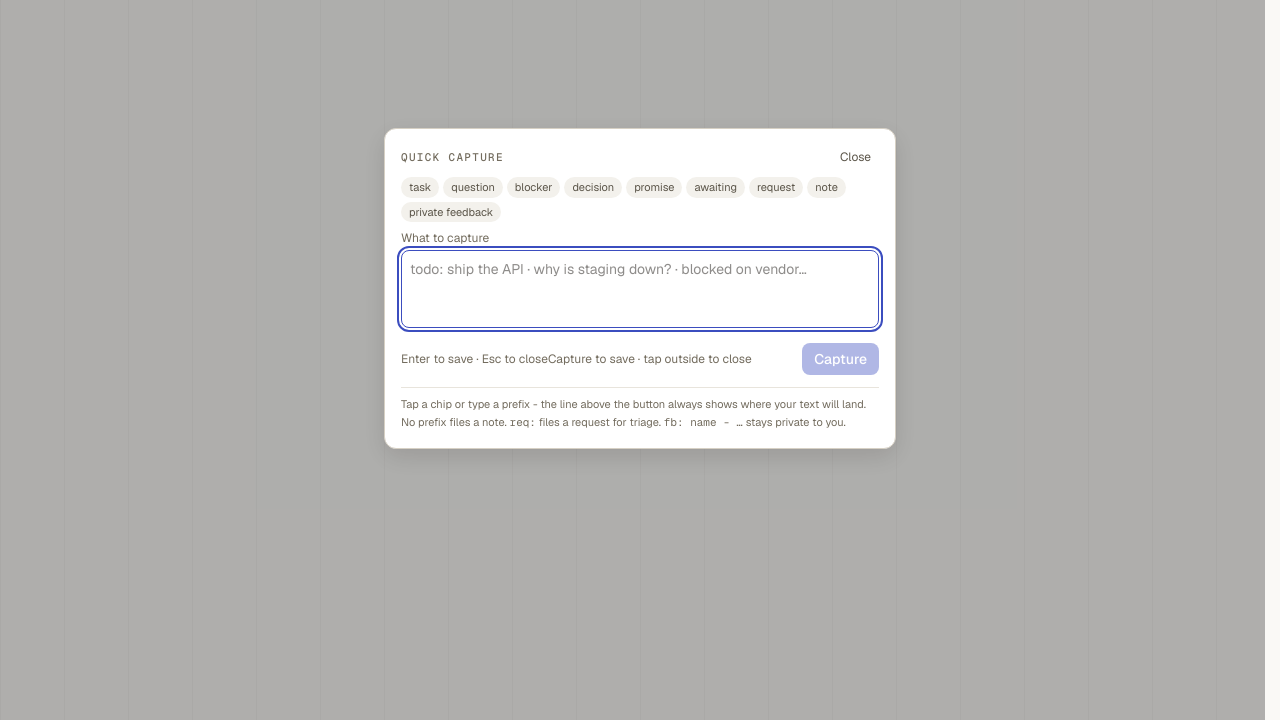
Test: the edit after a capture › shows the preview again after a failure
Replace the text in the text box labelled "What to capture" with "todo: ship the beta" at {"x": 640, "y": 289}, box [401,250,879,328]
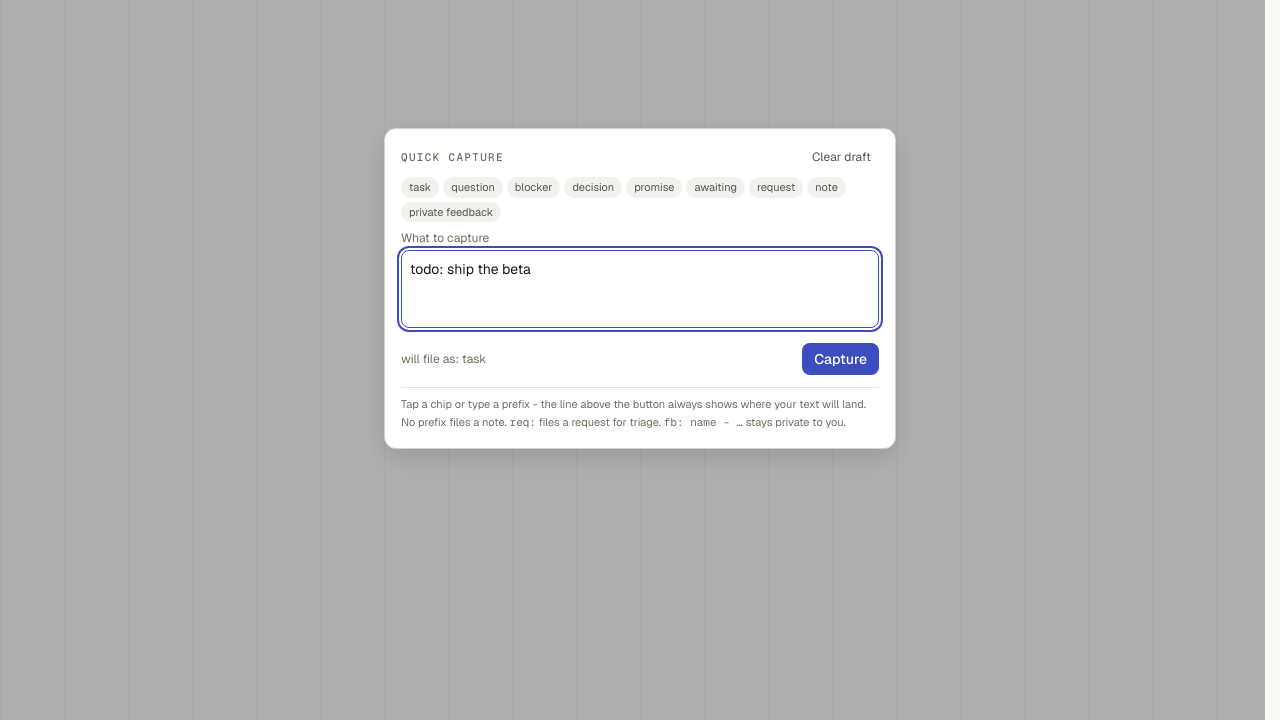
Click the button "Capture" at {"x": 841, "y": 359}, box [802,343,879,375]
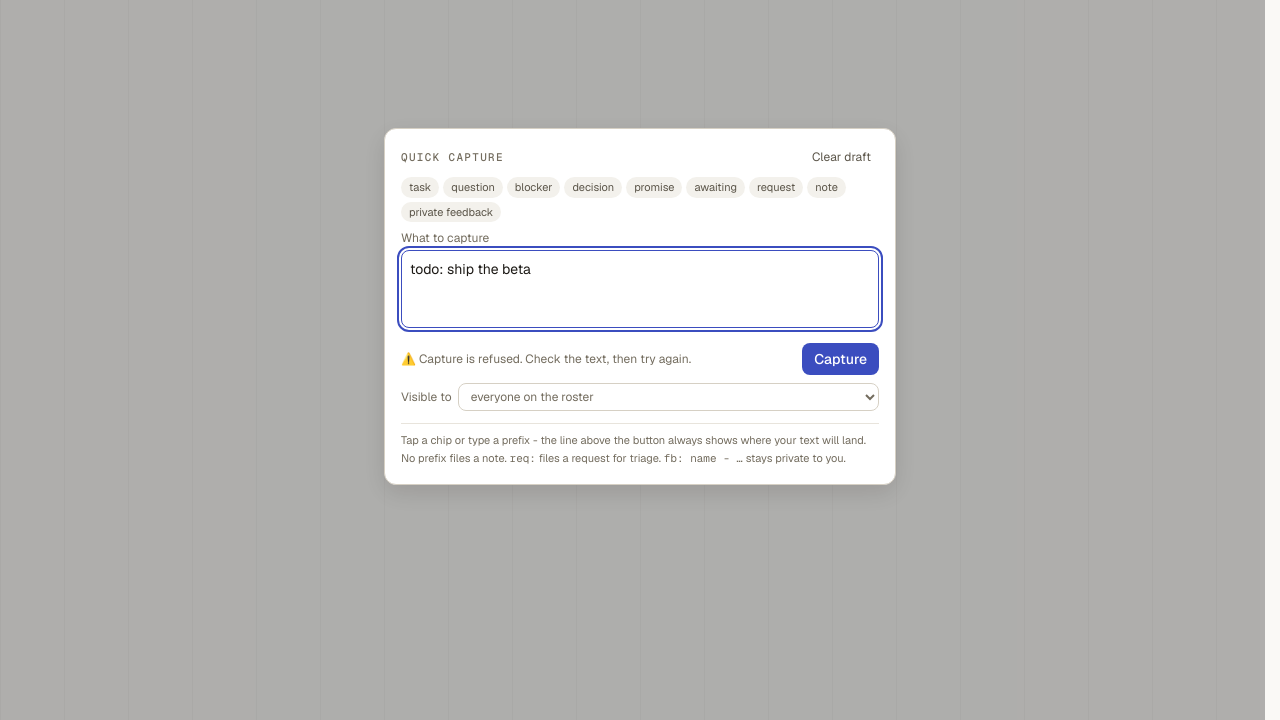
Result: the text "⚠️ Capture is refused. Check the text, then try again." is shown at [401,351,691,367]
Replace the text in the text box labelled "What to capture" with "todo: ship the beta today" at {"x": 640, "y": 289}, box [401,250,879,328]
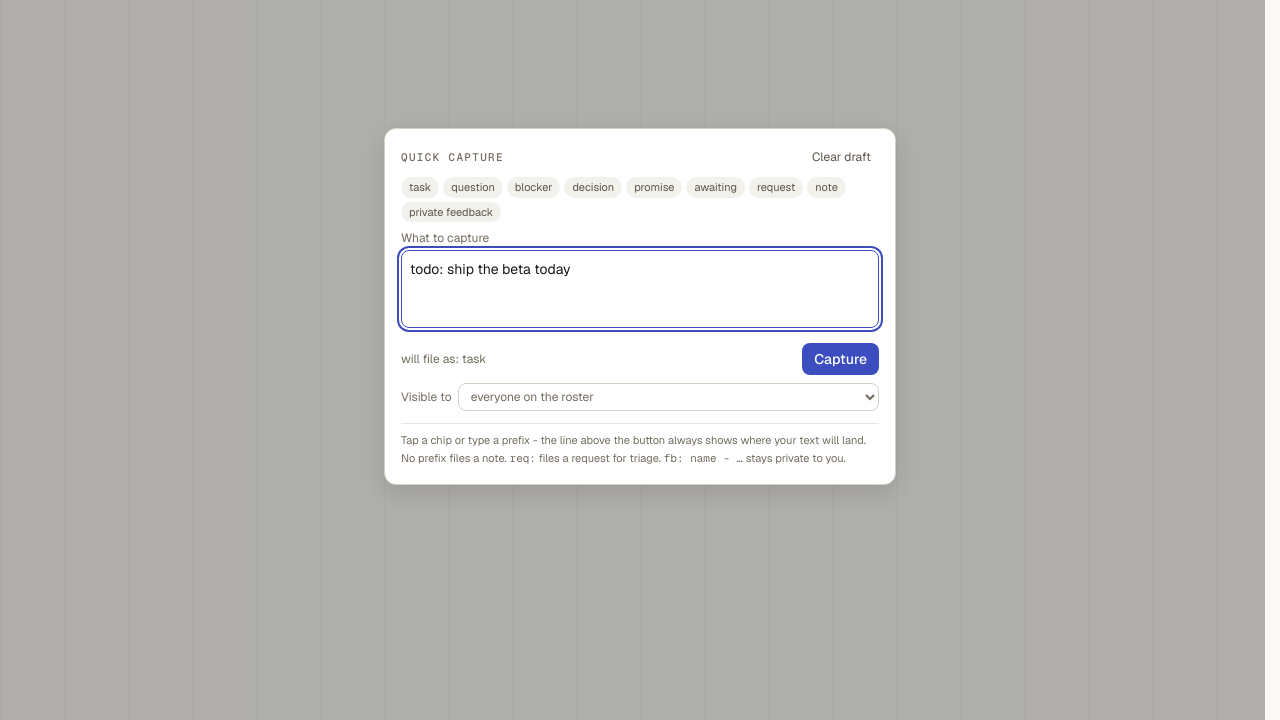
Result: the text "will file as: task" is shown at [401,351,486,367]
Result: the text "Capture is refused" is gone
